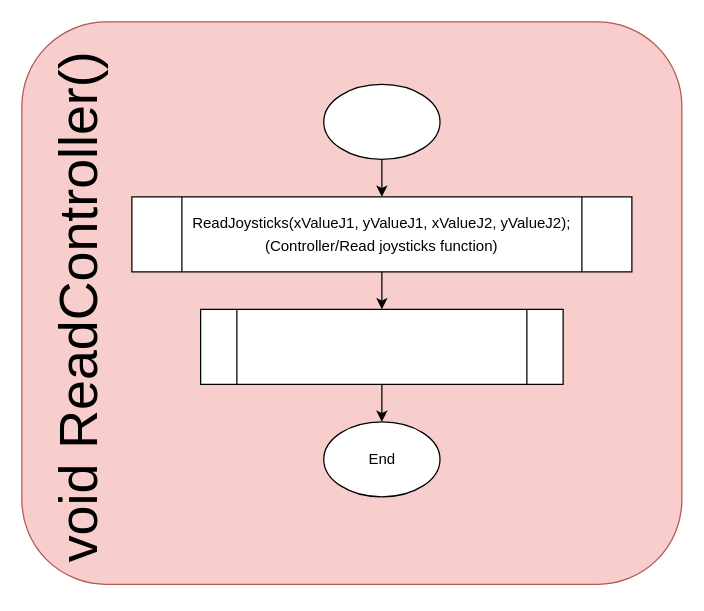
This 704x611 diagram has some shape labels left out. Each missing label, with the centre of its shape:
GripperButton = ReadButton(buttonPin); (Controller/Read button function): point 381,346
Start: point 381,121
